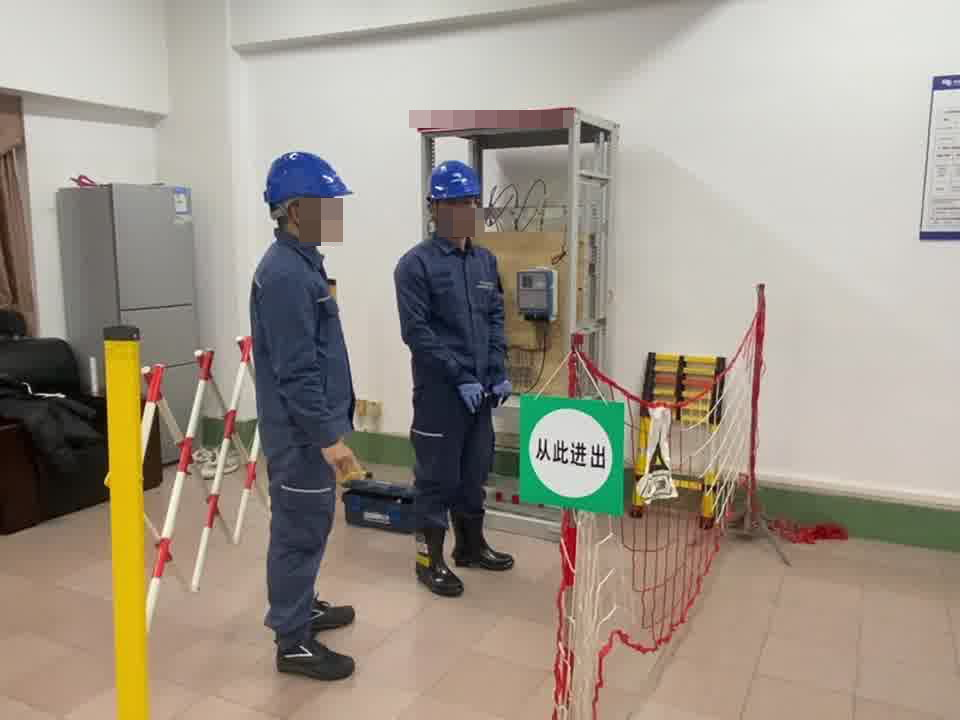downsuit: (262, 449, 340, 639), (411, 381, 498, 539)
glove: (458, 377, 487, 412), (488, 376, 511, 399)
halt: (263, 150, 350, 244), (426, 159, 486, 238)
hand: (326, 441, 368, 482)
inear: (279, 195, 311, 231), (426, 198, 445, 221)
intosign: (508, 387, 626, 521)
person: (243, 146, 364, 678), (393, 156, 519, 595)
shoe: (411, 523, 468, 596), (455, 511, 516, 571)
upsuit: (251, 239, 356, 444), (397, 238, 505, 372)
